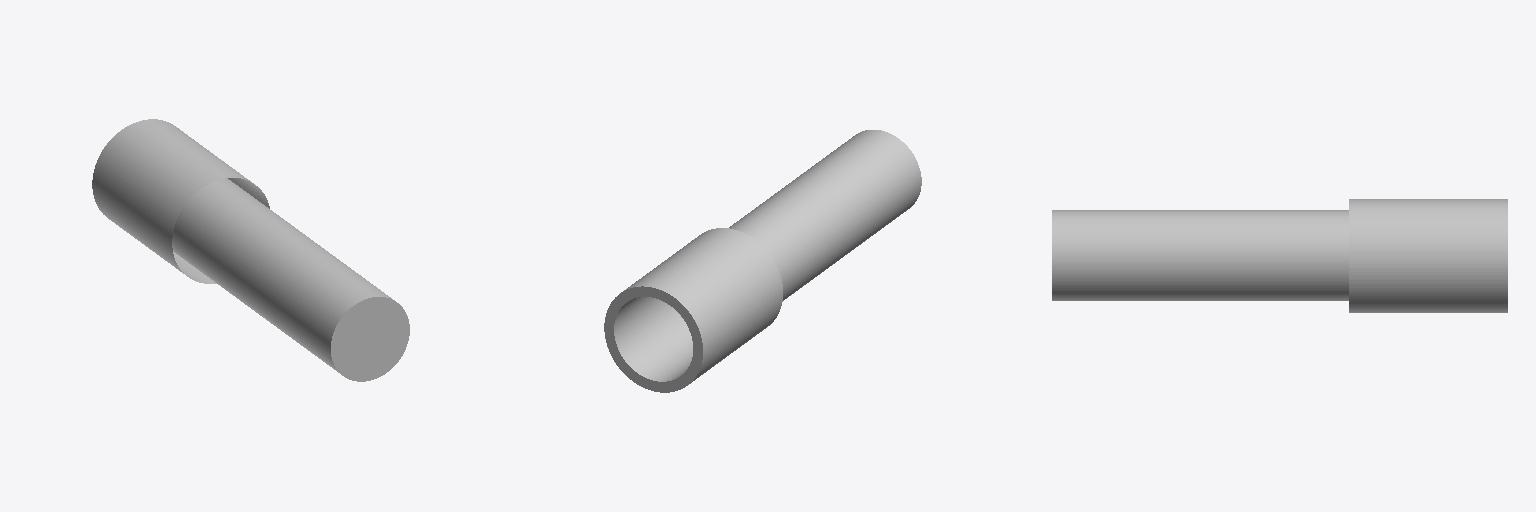
File: grs_small_consumer_pipe.obj
The picture shows the model from 3 angles: view 1: azimuth 30°, elevation 25°; view 2: azimuth 150°, elevation 25°; view 3: azimuth 270°, elevation 25°; orthographic projection.
Visible parts, largest first — view 1: obj1; view 2: obj1; view 3: obj1.
Part boxes in pixels (x1,y1,x2,y2): obj1: (92, 119, 409, 381); obj1: (604, 130, 921, 392); obj1: (1052, 199, 1507, 312).
Bounding box in the file's own units: 0.5 × 0.4998 × 2.